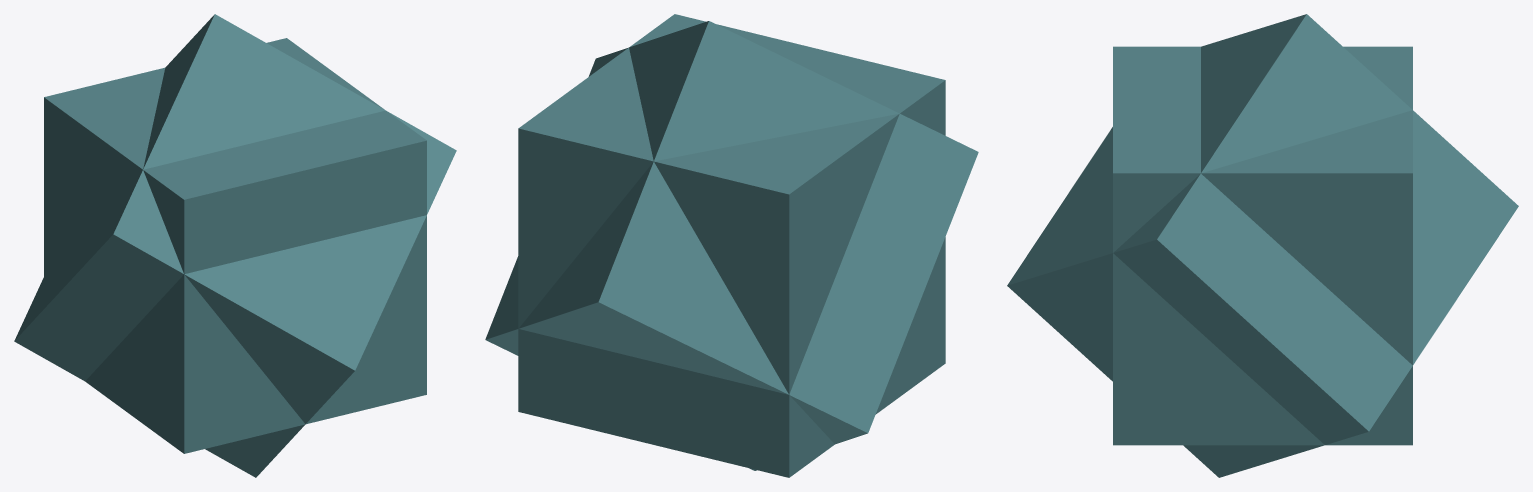
The model's file is Proyectile_siege_1.fbx.
3 views of the same model, side by side, from view 1: azimuth 30°, elevation 25°; view 2: azimuth 150°, elevation 25°; view 3: azimuth 270°, elevation 25° (orthographic). The views are drawn at different scales.
Parts seen in each view (by area): view 1: Roca Rara de metal, Cube.007; view 2: Roca Rara de metal, Cube.007; view 3: Cube.007, Roca Rara de metal.
Part boxes in pixels (bbox=[...]): Roca Rara de metal: bbox=[44, 38, 426, 453]; Cube.007: bbox=[14, 14, 456, 477]; Roca Rara de metal: bbox=[518, 14, 945, 477]; Cube.007: bbox=[485, 21, 978, 470]; Cube.007: bbox=[1007, 14, 1518, 477]; Roca Rara de metal: bbox=[1113, 46, 1412, 445].
Bounding box in the file's own units: 341 × 283 × 341.
